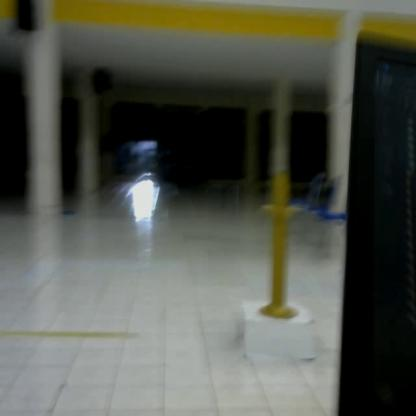pole: (257, 172, 302, 325)
